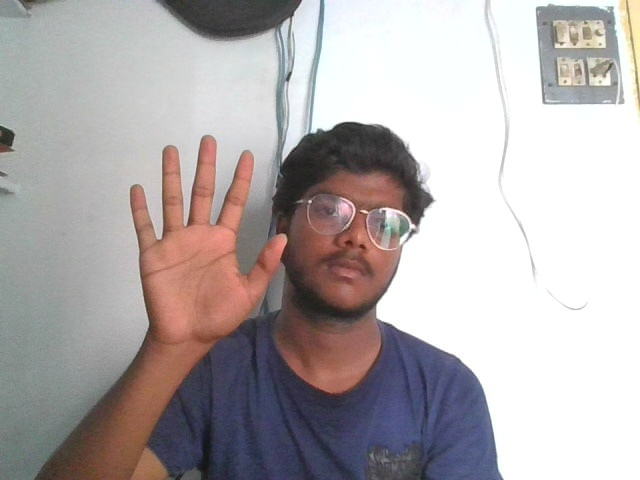Hello: (127, 133, 290, 340)
